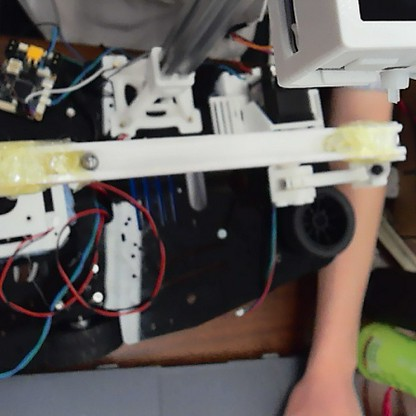ironball: (77, 149, 99, 173)
